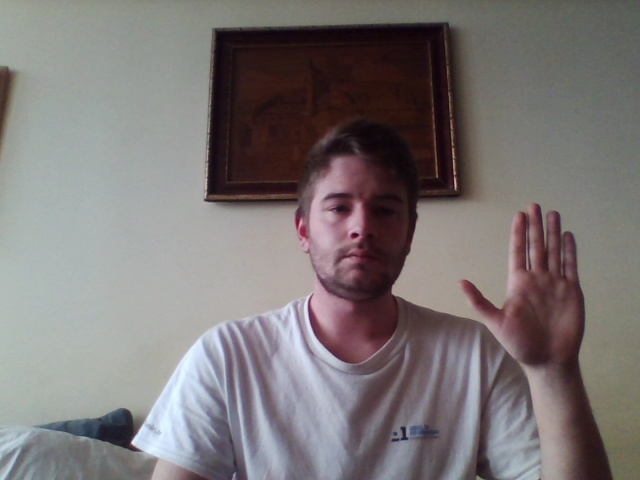pozdrav: (459, 201, 586, 367)
